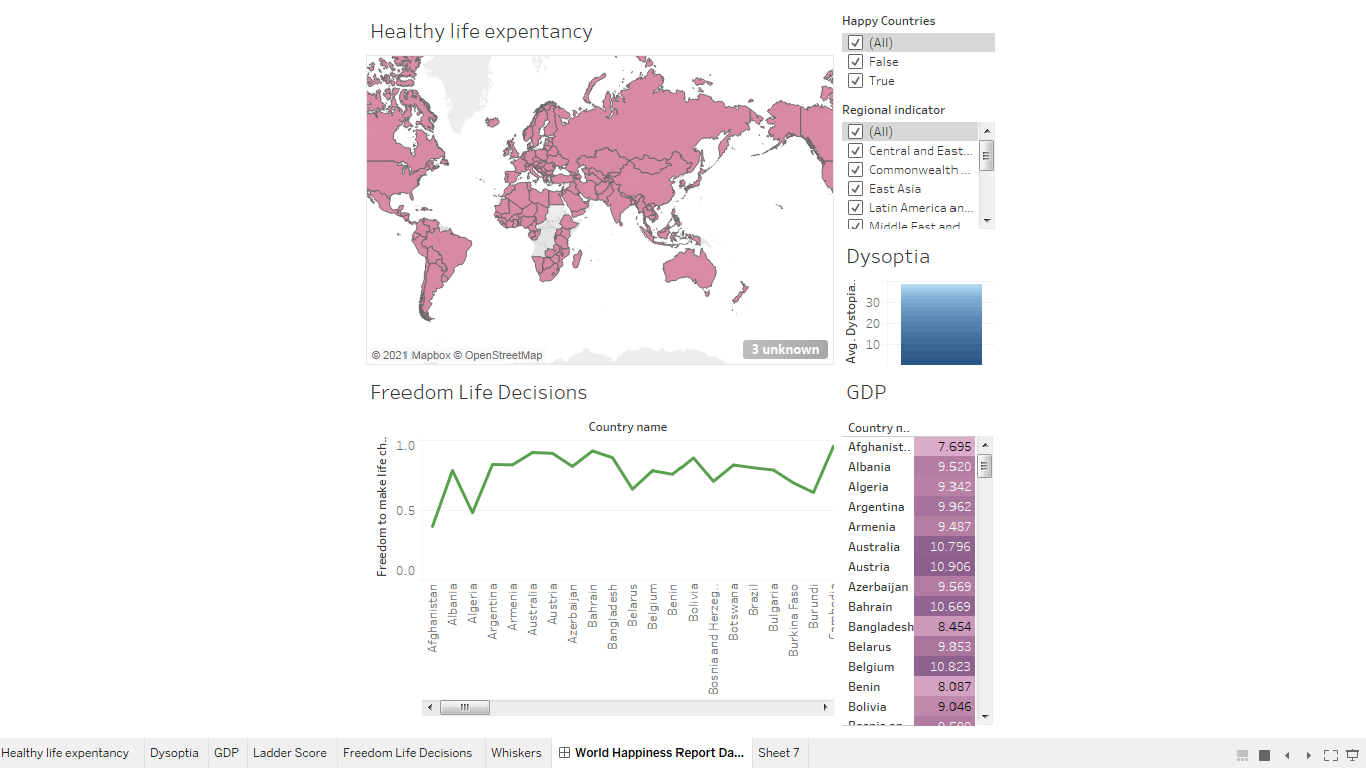

What the dashboard file says about the page in this screenshot:
{"tool":"tableau","page":{"name":"World Happiness Report Dashboard","canvas":[650,860],"ordinal":0},"visuals":[{"type":"worksheet","box":[0,0,650,860]},{"type":"worksheet","param":"horz","box":[8,8,634,844]},{"type":"worksheet","box":[8,8,474,844]},{"type":"worksheet","title":"Healthy life expentancy","mark":"Multipolygon","box":[8,8,474,422]},{"type":"worksheet","box":[482,8,160,844]},{"type":"worksheet","param":"vert","box":[482,8,160,422]},{"type":"worksheet","title":"Healthy life expentancy","mark":"Multipolygon","param":"[federated.1wu0ir11ecugsl19bntde1q0uw8s].[none:Calculation_106679058650128384:nk","box":[482,8,160,89]},{"type":"worksheet","title":"Healthy life expentancy","mark":"Multipolygon","param":"[federated.1wu0ir11ecugsl19bntde1q0uw8s].[none:Regional indicator:nk]","box":[482,97,160,163]},{"type":"worksheet","title":"Dysoptia","mark":"Automatic","rows":["Dystopia + residual"],"box":[482,260,160,170]},{"type":"worksheet","title":"Freedom Life Decisions","mark":"Line","rows":["Freedom to make life choices"],"cols":["Country name"],"box":[8,430,474,422]},{"type":"worksheet","param":"vert","box":[482,430,160,422]},{"type":"worksheet","title":"GDP","mark":"Square","rows":["Country name"],"box":[482,430,160,422]}]}

Visuals, with their boxes on the page's 650x860 design canvas (x1, y1, x2, y2). These are canvas units, not pixel positions in the 1366x768 screenshot, which may show the page scaled, cropped or inside an application window:
worksheet: {"left": 0, "top": 0, "right": 650, "bottom": 860}
worksheet: {"left": 8, "top": 8, "right": 642, "bottom": 852}
worksheet: {"left": 8, "top": 8, "right": 482, "bottom": 852}
"Healthy life expentancy" worksheet (Multipolygon marks): {"left": 8, "top": 8, "right": 482, "bottom": 430}
worksheet: {"left": 482, "top": 8, "right": 642, "bottom": 852}
worksheet: {"left": 482, "top": 8, "right": 642, "bottom": 430}
"Healthy life expentancy" worksheet (Multipolygon marks): {"left": 482, "top": 8, "right": 642, "bottom": 97}
"Healthy life expentancy" worksheet (Multipolygon marks): {"left": 482, "top": 97, "right": 642, "bottom": 260}
"Dysoptia" worksheet: {"left": 482, "top": 260, "right": 642, "bottom": 430}
"Freedom Life Decisions" worksheet (Line marks): {"left": 8, "top": 430, "right": 482, "bottom": 852}
worksheet: {"left": 482, "top": 430, "right": 642, "bottom": 852}
"GDP" worksheet (Square marks): {"left": 482, "top": 430, "right": 642, "bottom": 852}
